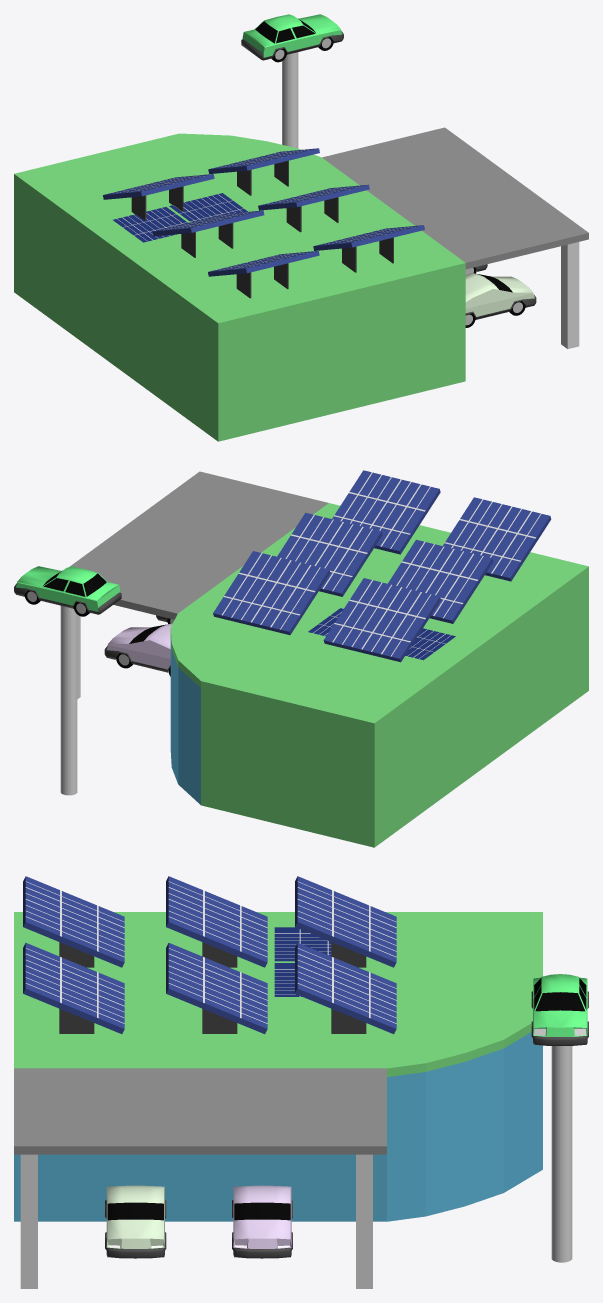
File: carshop_eco_model.fbx
3 views of the same model, one above another, from view 1: azimuth 30°, elevation 25°; view 2: azimuth 150°, elevation 25°; view 3: azimuth 270°, elevation 25° (orthographic). The views are drawn at different scales.
Parts seen in each view (by area): view 1: 立方体.065, 平面.003, 平面.004; view 2: 立方体.065, 平面.003; view 3: 立方体.065, 平面.003, 平面.004.
Boxes of the visible parts, box(x1,y1,x2,y2) form: 立方体.065: box(14, 14, 588, 441); 平面.003: box(113, 207, 187, 242); 平面.004: box(169, 193, 247, 221); 立方体.065: box(14, 470, 588, 847); 平面.003: box(405, 628, 455, 660); 立方体.065: box(14, 876, 588, 1288); 平面.003: box(274, 927, 331, 961); 平面.004: box(274, 963, 301, 996).
Size of the model in its own units: 356 by 192 by 369.
